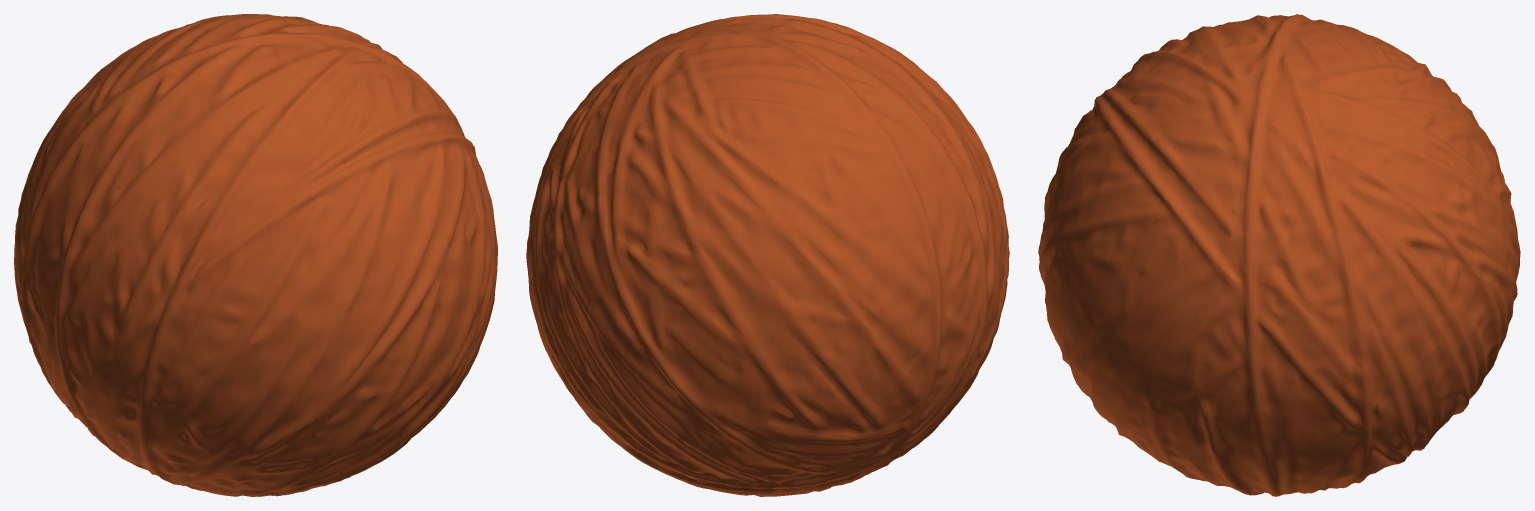
Rendered from Yarn_OrangeBall.fbx.
3 renders of one model, left to right at view 1: azimuth 30°, elevation 25°; view 2: azimuth 150°, elevation 25°; view 3: azimuth 270°, elevation 25°, orthographic.
Visible parts, largest first — view 1: Object_8; view 2: Object_8; view 3: Object_8.
Part boxes in pixels (left/top/right/bottom): Object_8: left=14, top=14, right=497, bottom=496; Object_8: left=526, top=14, right=1009, bottom=496; Object_8: left=1038, top=14, right=1520, bottom=496.
Bounding box in the file's own units: 197 × 198 × 197.
